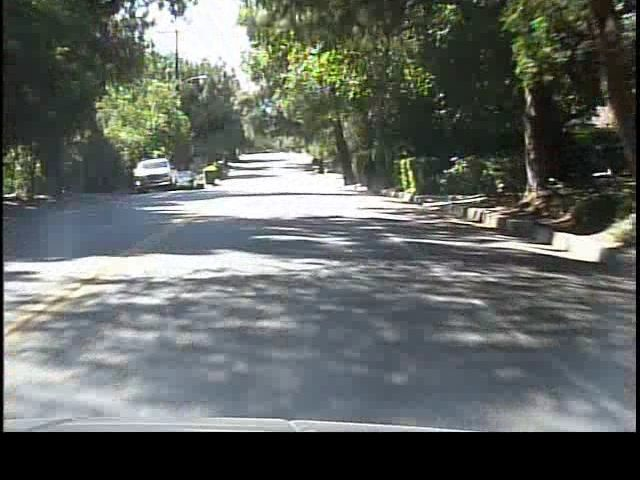person: (361, 154, 380, 199)
